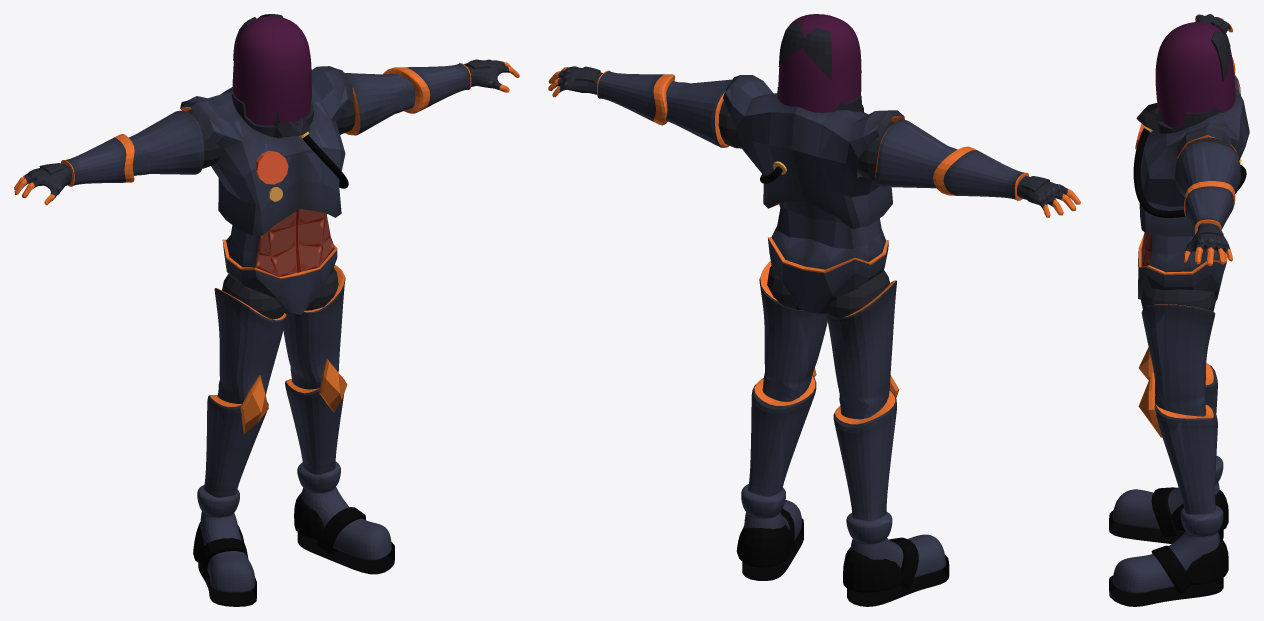
Rendered from astronaut.fbx.
The picture shows the model from 3 angles, left to right: view 1: azimuth 30°, elevation 25°; view 2: azimuth 150°, elevation 25°; view 3: azimuth 270°, elevation 25°; orthographic projection. The views are drawn at different scales.
Visible parts, largest first — view 1: Cube, Cube.009, Cube.001, Cube.010, Cube.004, Cube.013, Cube.007, Cube.014, Cube.008, 15, Cube.011, Cube.002 (+3 smaller); view 2: Cube, Cube.009, Cube.010, Cube.001, Cube.014, Cube.007, Cube.008, Cube.004, Cube.013, 15, Cube.005, Cube.002 (+1 smaller); view 3: Cube.009, Cube.004, Cube.014, Cube, Cube.013, Cube.010, Cube.001, Cube.007, Cube.008, 15, Cube.002, Cube.005 (+3 smaller).
Boxes of the visible parts, left/top/right/bottom form: Cube: left=180, top=66, right=353, bottom=235; Cube.009: left=214, top=265, right=345, bottom=403; Cube.001: left=222, top=208, right=337, bottom=314; Cube.010: left=203, top=375, right=344, bottom=497; Cube.004: left=232, top=16, right=311, bottom=125; Cube.013: left=197, top=462, right=391, bottom=592; Cube.007: left=128, top=72, right=415, bottom=175; Cube.014: left=193, top=492, right=394, bottom=606; Cube.008: left=60, top=63, right=471, bottom=186; 15: left=14, top=59, right=519, bottom=205; Cube.011: left=240, top=359, right=347, bottom=433; Cube.002: left=222, top=268, right=338, bottom=319; Cube: left=723, top=75, right=904, bottom=229; Cube.009: left=759, top=261, right=896, bottom=419; Cube.010: left=748, top=375, right=896, bottom=521; Cube.001: left=768, top=200, right=888, bottom=313; Cube.014: left=736, top=509, right=949, bottom=606; Cube.007: left=666, top=79, right=957, bottom=188; Cube.008: left=597, top=70, right=1029, bottom=200; Cube.004: left=778, top=14, right=861, bottom=112; Cube.013: left=741, top=484, right=945, bottom=577; 15: left=548, top=66, right=1080, bottom=217; Cube.005: left=777, top=23, right=863, bottom=112; Cube.002: left=767, top=266, right=889, bottom=319; Cube.009: left=1141, top=304, right=1215, bottom=416; Cube.004: left=1155, top=22, right=1235, bottom=130; Cube.014: left=1109, top=487, right=1228, bottom=606; Cube: left=1139, top=74, right=1249, bottom=236; Cube.013: left=1112, top=455, right=1223, bottom=593; Cube.010: left=1154, top=363, right=1217, bottom=514; Cube.001: left=1138, top=232, right=1227, bottom=300; Cube.007: left=1175, top=76, right=1240, bottom=197; Cube.008: left=1184, top=58, right=1235, bottom=234; 15: left=1184, top=14, right=1232, bottom=266; Cube.002: left=1141, top=289, right=1215, bottom=311; Cube.005: left=1154, top=22, right=1230, bottom=133.
Bounding box in the file's own units: 424 × 435 × 103.
Materials: 13 (12 with a texture image).
